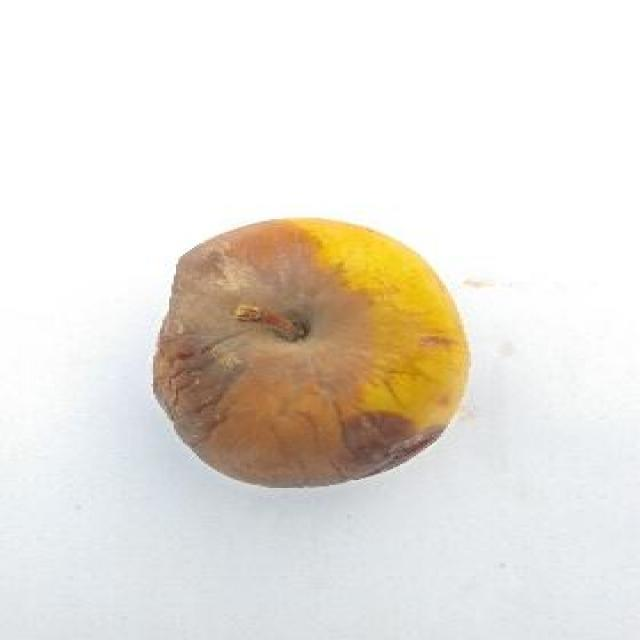Banana: (147, 222, 470, 492)
